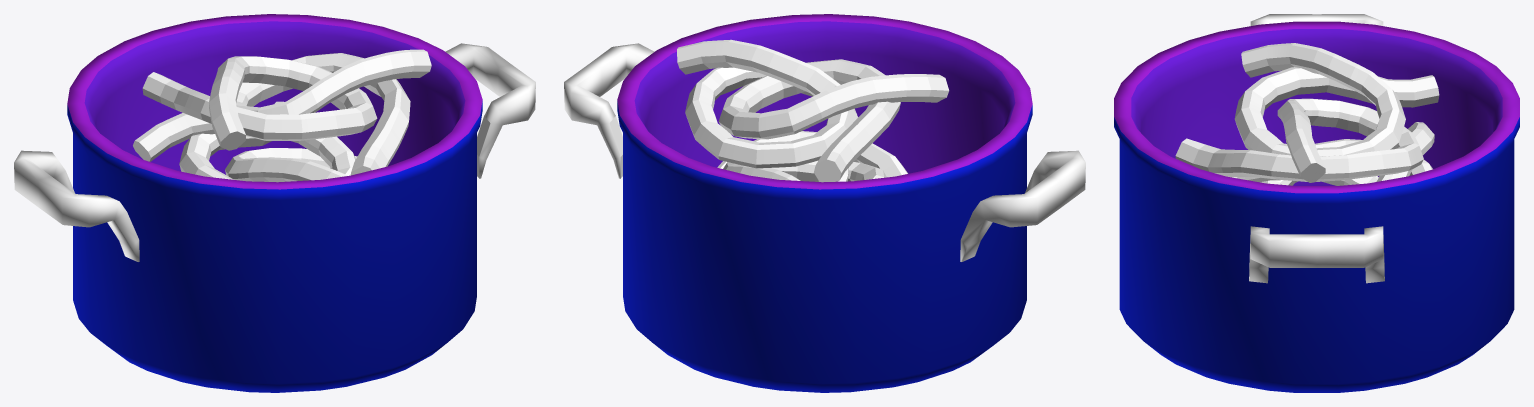
File: Spaghetti - Drained.fbx
The picture shows the model from 3 angles, left to right: view 1: azimuth 30°, elevation 25°; view 2: azimuth 150°, elevation 25°; view 3: azimuth 270°, elevation 25°; orthographic projection.
Parts seen in each view (by area): view 1: Cylinder, Plane_001, Cylinder_003, Plane_002, Plane_001_1, Plane_002_1; view 2: Cylinder, Plane_001, Plane_002, Cylinder_003, Plane_001_1, Plane_002_1; view 3: Cylinder, Plane_001, Plane_002, Cylinder_003, Plane_001_1, Plane_002_1.
Boxes of the visible parts, <box> form: Cylinder: <box>67,14,482,392</box>; Plane_001: <box>142,56,377,150</box>; Cylinder_003: <box>14,43,535,261</box>; Plane_002: <box>236,49,431,175</box>; Plane_001_1: <box>133,101,355,179</box>; Plane_002_1: <box>225,148,357,182</box>; Cylinder: <box>617,14,1032,392</box>; Plane_001: <box>718,59,949,182</box>; Plane_002: <box>677,39,857,168</box>; Cylinder_003: <box>564,43,1085,261</box>; Plane_001_1: <box>723,160,886,181</box>; Plane_002_1: <box>717,116,907,181</box>; Cylinder: <box>1114,21,1519,392</box>; Plane_001: <box>1234,43,1439,156</box>; Plane_002: <box>1175,98,1423,182</box>; Cylinder_003: <box>1249,14,1384,283</box>; Plane_001_1: <box>1260,122,1434,185</box>; Plane_002_1: <box>1232,176,1378,185</box>.
Size of the model in its own units: 83.38 by 42.03 by 62.94.
